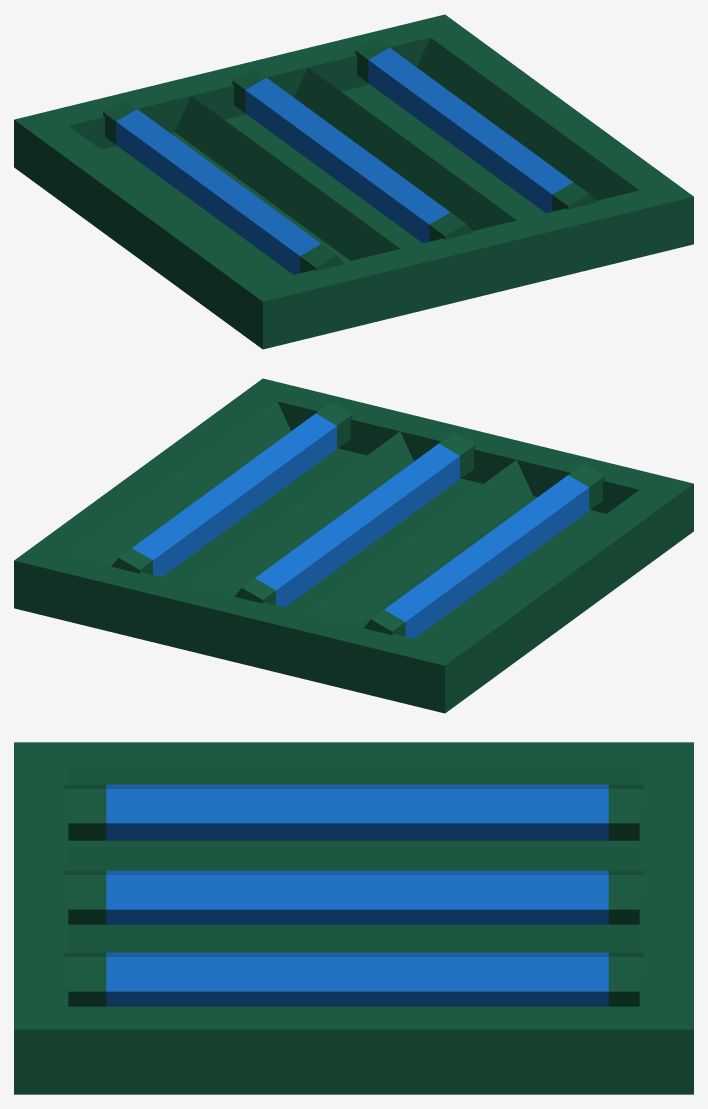
File: T_industrial_ceiling_lamp1.fbx
3 views of the same model, one above another, from view 1: azimuth 30°, elevation 25°; view 2: azimuth 150°, elevation 25°; view 3: azimuth 270°, elevation 25° (orthographic). The views are drawn at different scales.
Parts seen in each view (by area): view 1: industrial_ceiling_lamp1; view 2: industrial_ceiling_lamp1; view 3: industrial_ceiling_lamp1.
Part boxes in pixels (bbox=[...]): industrial_ceiling_lamp1: bbox=[14, 14, 693, 349]; industrial_ceiling_lamp1: bbox=[14, 378, 693, 713]; industrial_ceiling_lamp1: bbox=[14, 742, 693, 1094].
Size of the model in its own units: 40 by 5.19 by 40.
